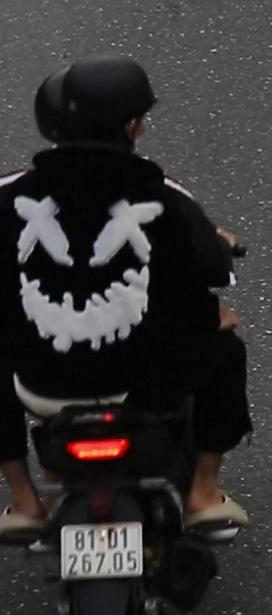LP: (58, 514, 148, 584)
helmet: (62, 49, 159, 157), (35, 62, 77, 147)
